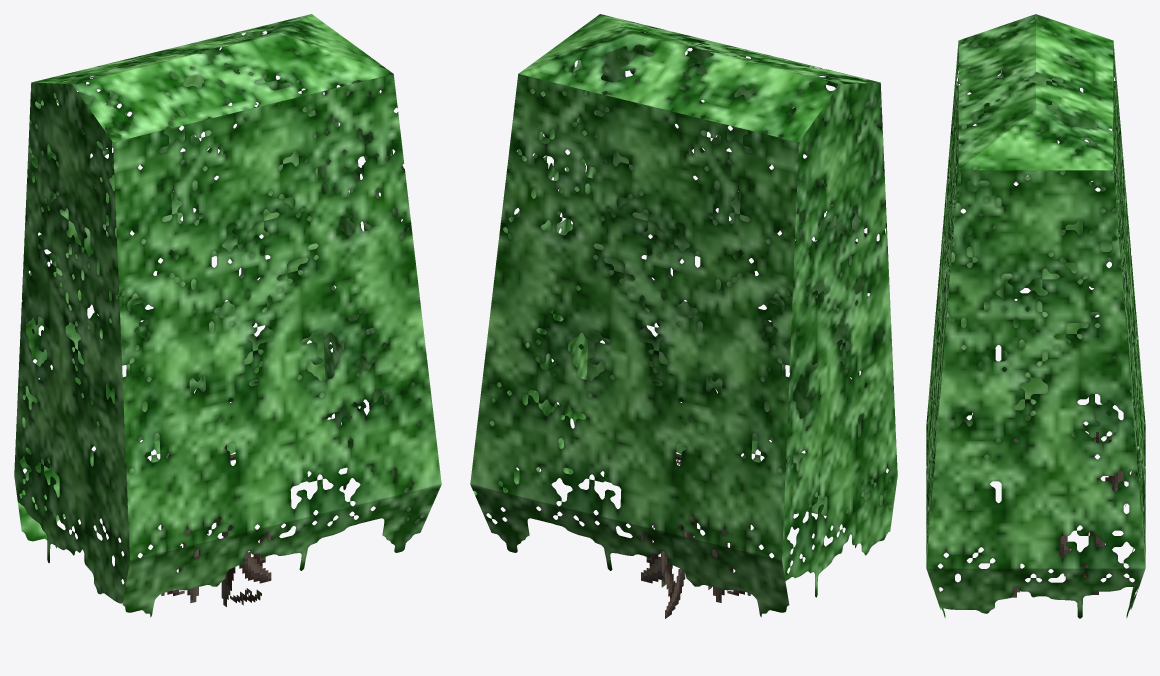
Rendered from bush_tall_half_open_right_roots_spring.fbx.
3 views of the same model, side by side, from view 1: azimuth 30°, elevation 25°; view 2: azimuth 150°, elevation 25°; view 3: azimuth 270°, elevation 25° (orthographic). The views are drawn at different scales.
Visible parts, largest first — view 1: bush_tall_half_open_right_roots_spring; view 2: bush_tall_half_open_right_roots_spring; view 3: bush_tall_half_open_right_roots_spring.
Boxes of the visible parts, box(x1,y1,x2,y2) form: bush_tall_half_open_right_roots_spring: box(14, 14, 441, 617); bush_tall_half_open_right_roots_spring: box(470, 14, 897, 618); bush_tall_half_open_right_roots_spring: box(926, 14, 1145, 618).
Size of the model in its own units: 112 by 188 by 71.91.
2 materials, 2 textured.
